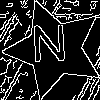N: (29, 24, 69, 72)
